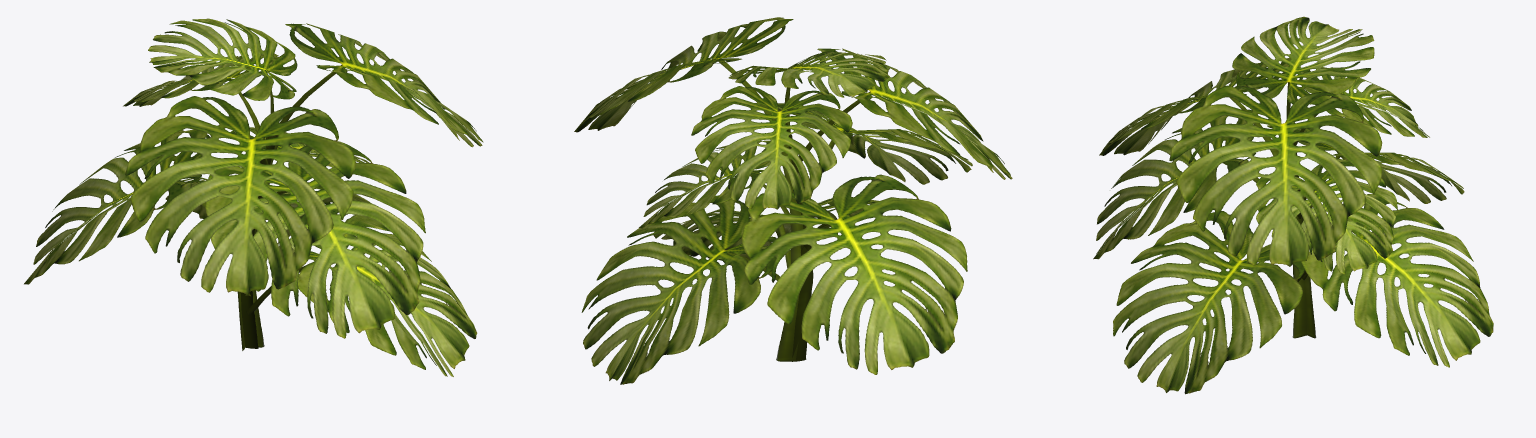
Rendered from holeleaves2.FBX.
The picture shows the model from 3 angles, left to right: view 1: azimuth 30°, elevation 25°; view 2: azimuth 150°, elevation 25°; view 3: azimuth 270°, elevation 25°; orthographic projection. The views are drawn at different scales.
Parts seen in each view (by area): view 1: holeleaves_high; view 2: holeleaves_high; view 3: holeleaves_high.
Boxes of the visible parts, left/top/right/bottom form: holeleaves_high: left=24, top=18, right=483, bottom=376; holeleaves_high: left=574, top=17, right=1012, bottom=384; holeleaves_high: left=1093, top=16, right=1493, bottom=394.
Size of the model in its own units: 52.78 by 36.59 by 52.56.
Materials: 1 (1 with a texture image).
